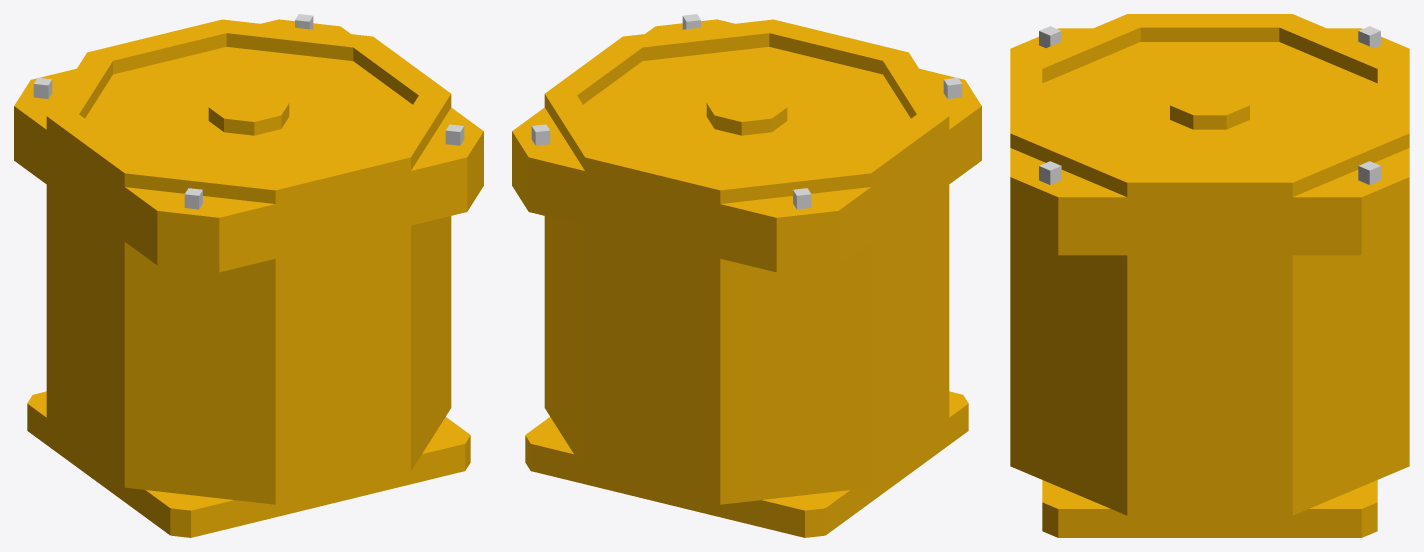
The model's file is modular_engine_power_manifold_housing_1x1.dae.
3 renders of one model, left to right at view 1: azimuth 30°, elevation 25°; view 2: azimuth 150°, elevation 25°; view 3: azimuth 270°, elevation 25°, orthographic. The views are drawn at different scales.
Visible parts, largest first — view 1: Cube; view 2: Cube; view 3: Cube.
Part boxes in pixels (left/top/right/bottom): Cube: left=14, top=14, right=483, bottom=537; Cube: left=512, top=14, right=981, bottom=537; Cube: left=1010, top=14, right=1409, bottom=537.
Bounding box in the file's own units: 0.25 × 0.25 × 0.25.
